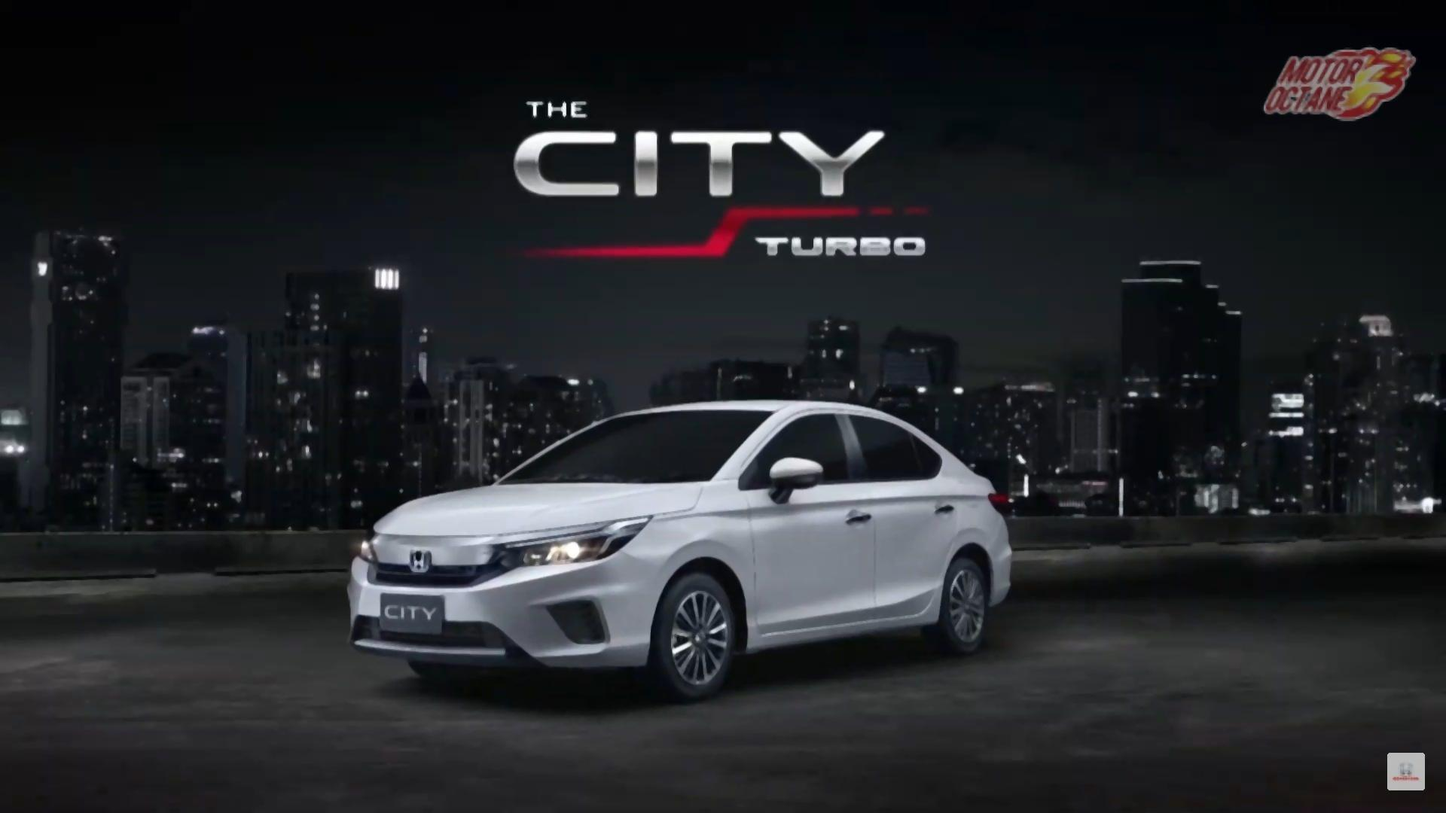Car hood: (363, 478, 711, 540)
Fender - -F-L-: (632, 470, 762, 661)
Fender - -R-L-: (943, 458, 1008, 627)
Front bumper: (343, 544, 658, 683)
Headlight - -L-: (485, 505, 667, 583)
Headlight - -R-: (322, 517, 398, 587)
Passenger-s door - -F-L-: (746, 397, 882, 630)
Passenger-s door - -R-L-: (854, 405, 969, 620)
Rear bumper: (959, 521, 1030, 615)
Rear light - -L-: (975, 469, 1022, 530)
Side bumper - -L-: (738, 598, 952, 660)
Side mirror - -L-: (758, 448, 834, 507)
